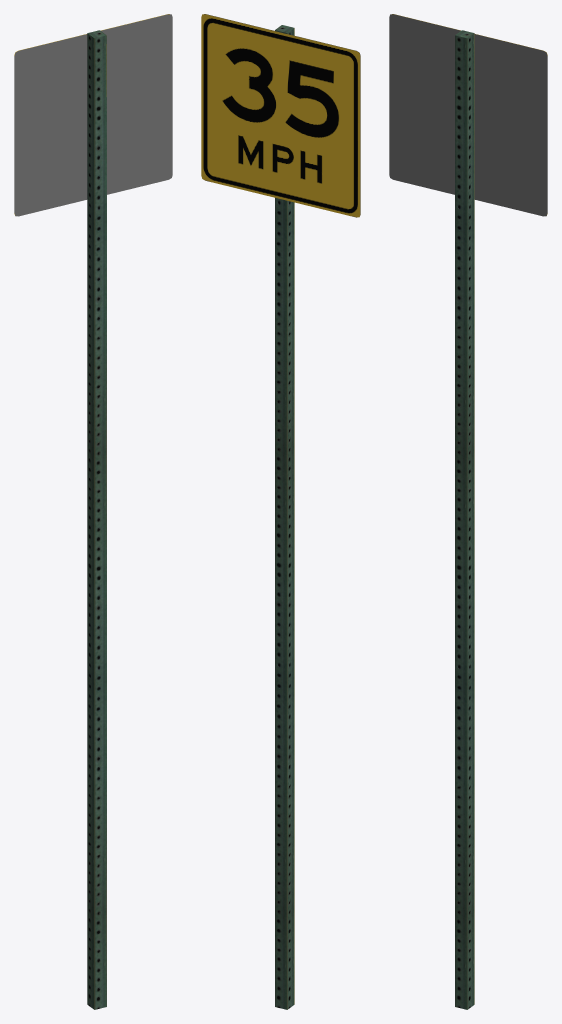
Rendered from GSDSignSquare-Small.FBX.
3 views of the same model, side by side, from view 1: azimuth 30°, elevation 25°; view 2: azimuth 150°, elevation 25°; view 3: azimuth 330°, elevation 25° (orthographic).
Parts seen in each view (by area): view 1: GSDSignSquare-Small; view 2: GSDSignSquare-Small; view 3: GSDSignSquare-Small.
Boxes of the visible parts, x1,y1,x2,y2 form: GSDSignSquare-Small: [14, 14, 172, 1009]; GSDSignSquare-Small: [201, 14, 360, 1009]; GSDSignSquare-Small: [389, 14, 547, 1009].
Size of the model in its own units: 0.3839 by 2.25 by 0.031.
Materials: 1 (1 with a texture image).
